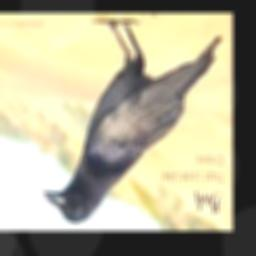Crow: (44, 18, 223, 224)
